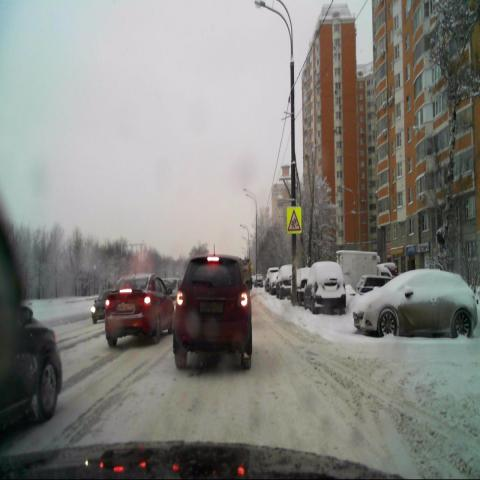1_23: (286, 205, 302, 234)
